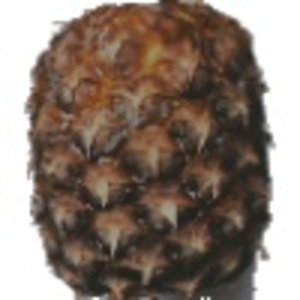abacaxi: (17, 1, 272, 298)
